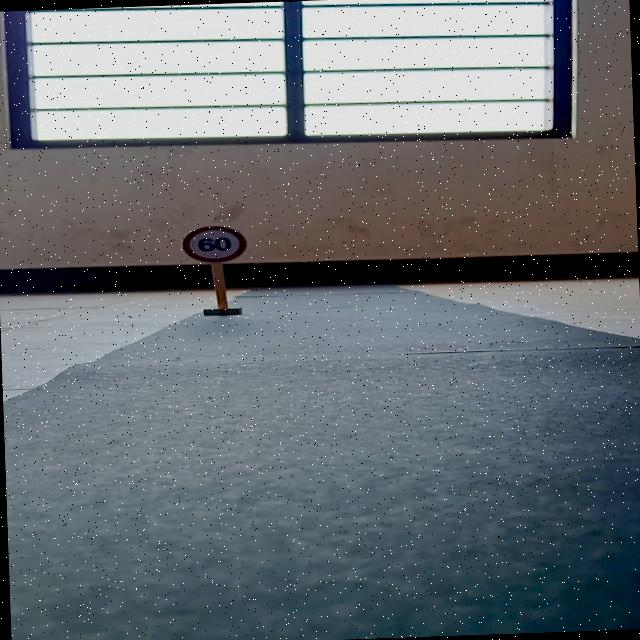Speed60: (175, 222, 251, 264)
